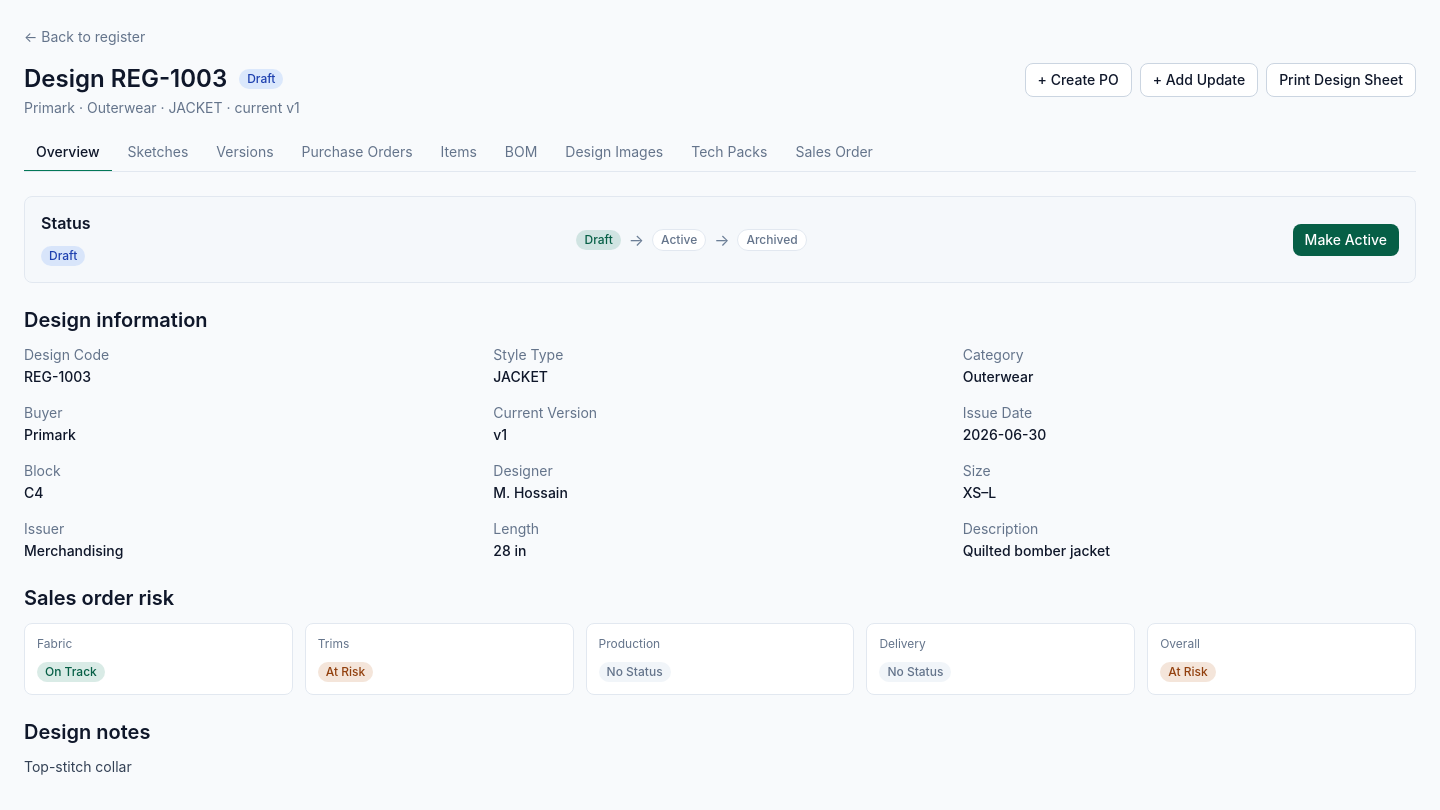
Test: DesignDetailPage — Overview tab › advances a draft design to active via the status wizard
Expected: the heading "Design REG-1003" is shown, x1=24 y1=63 x2=227 y2=94
Click the button "Make Active" at (1346, 240), box x1=1293 y1=224 x2=1399 y2=256
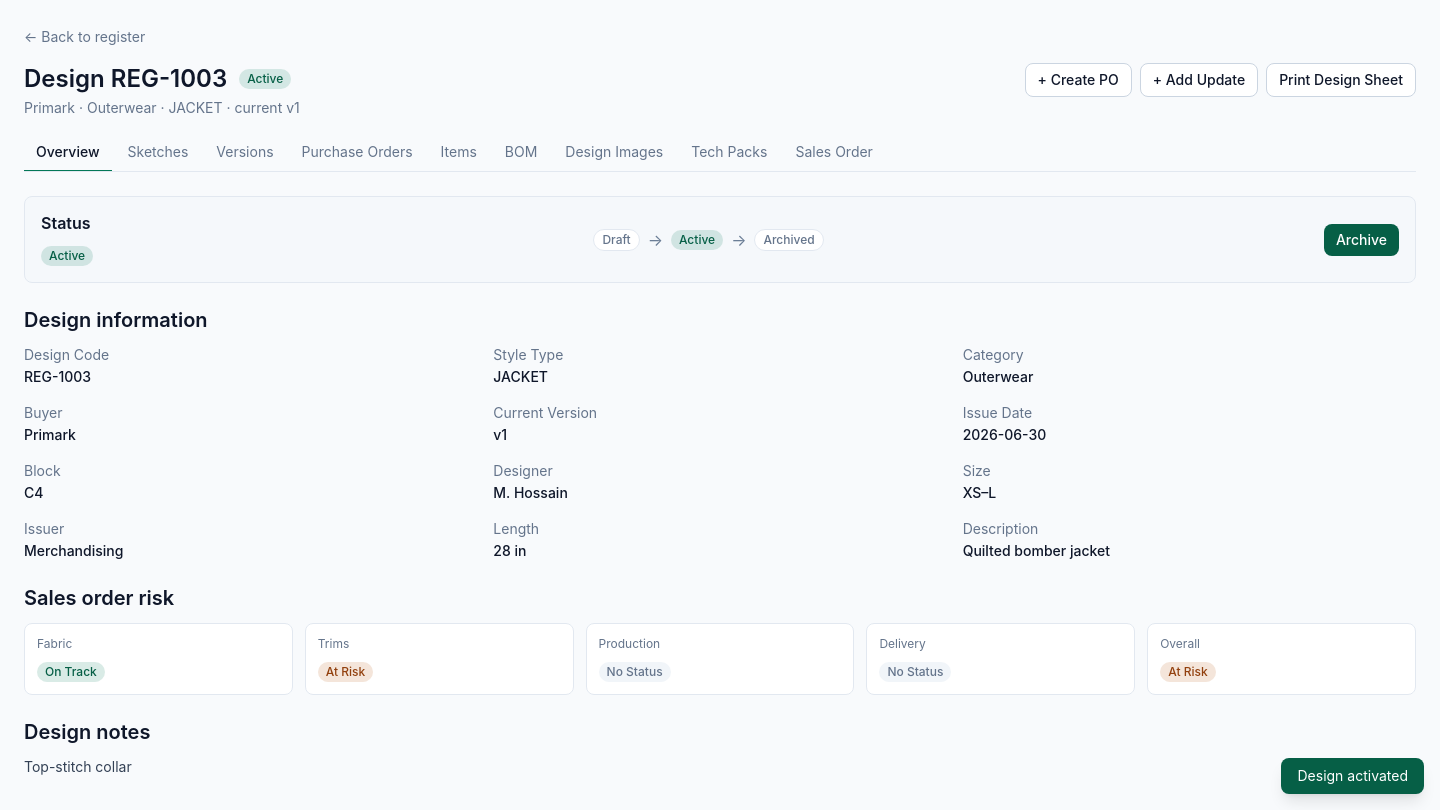
Expected: the text "Design activated" is shown, x1=1282 y1=758 x2=1424 y2=794
